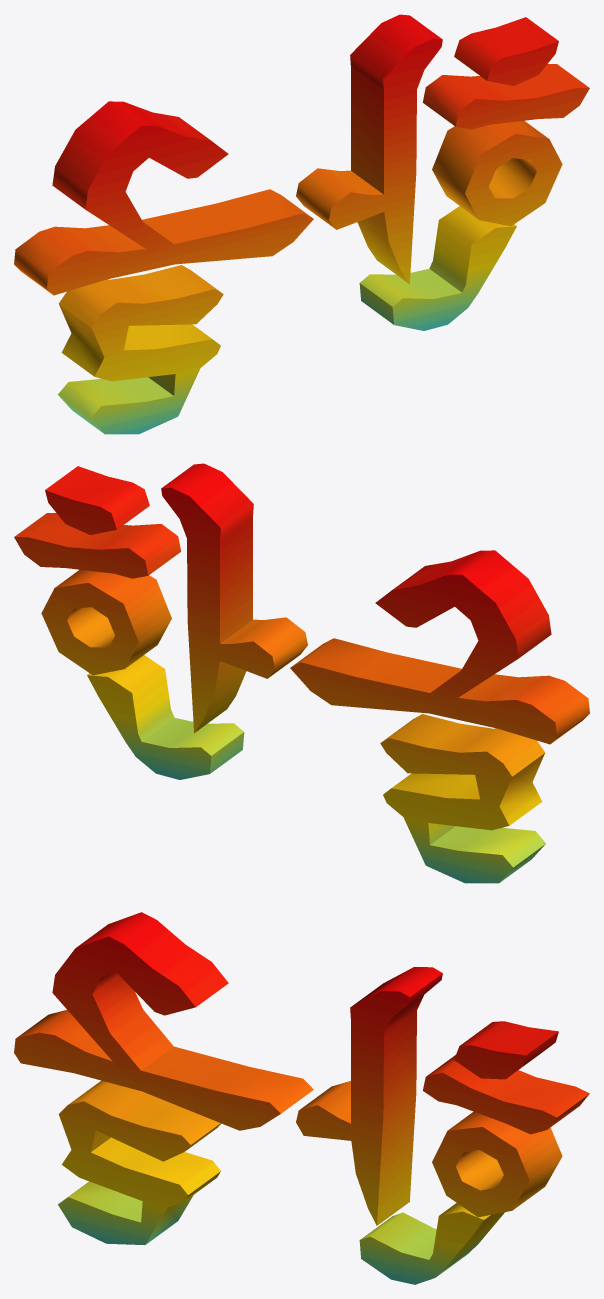
File: ICON.ICO.obj
3 renders of one model, top to bottom at view 1: azimuth 30°, elevation 25°; view 2: azimuth 150°, elevation 25°; view 3: azimuth 330°, elevation 25°, orthographic.
Bounding box in the file's own units: 4.76 × 2.71 × 0.5.
Materials: 1 (1 with a texture image).
